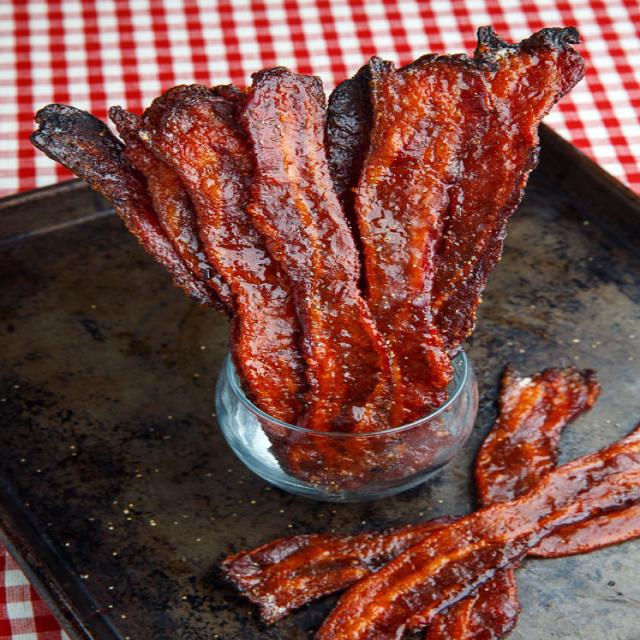bacon: (52, 52, 595, 448), (191, 469, 640, 640)
